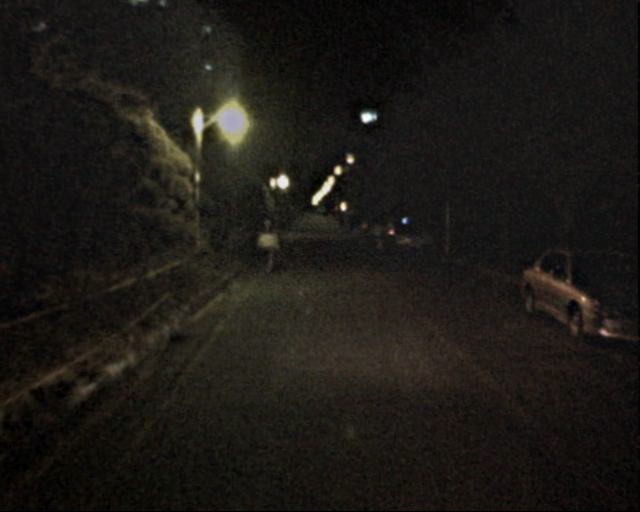person: (255, 217, 278, 273), (373, 219, 388, 255), (338, 219, 359, 241)
